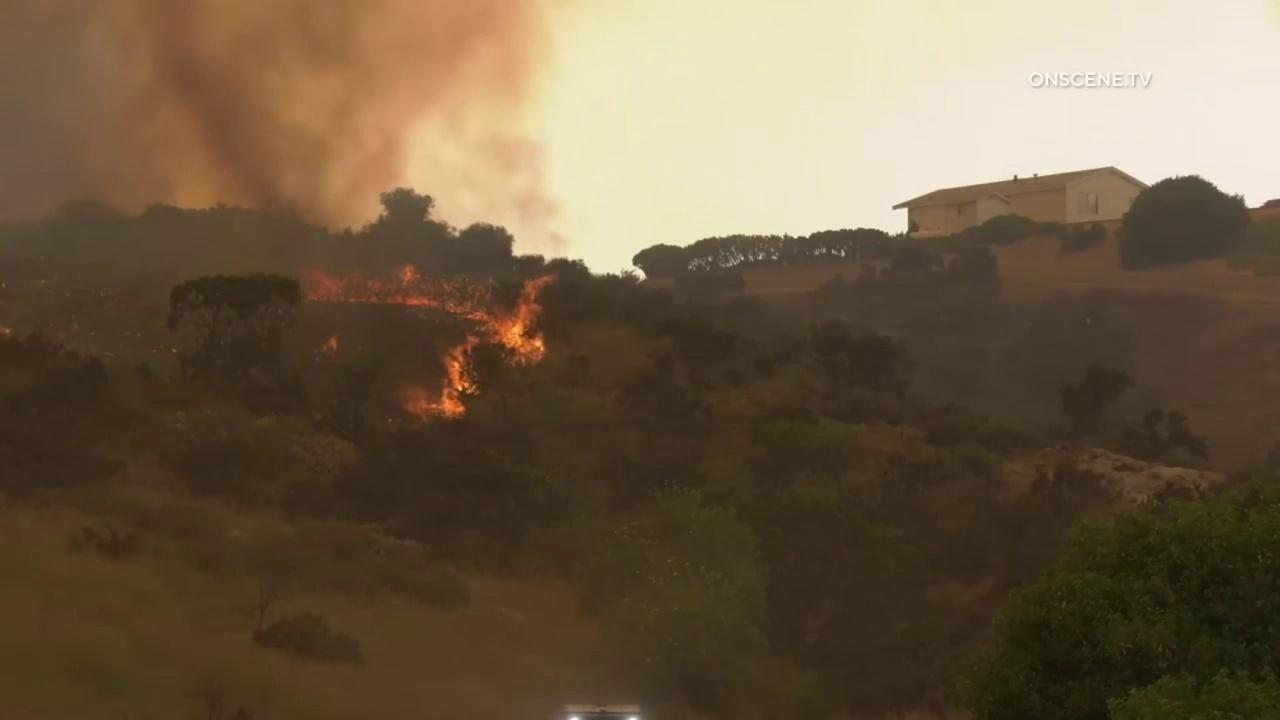fire: (297, 261, 557, 369), (397, 333, 481, 424), (323, 336, 339, 352), (0, 325, 13, 338)
smoke: (0, 0, 570, 444)
